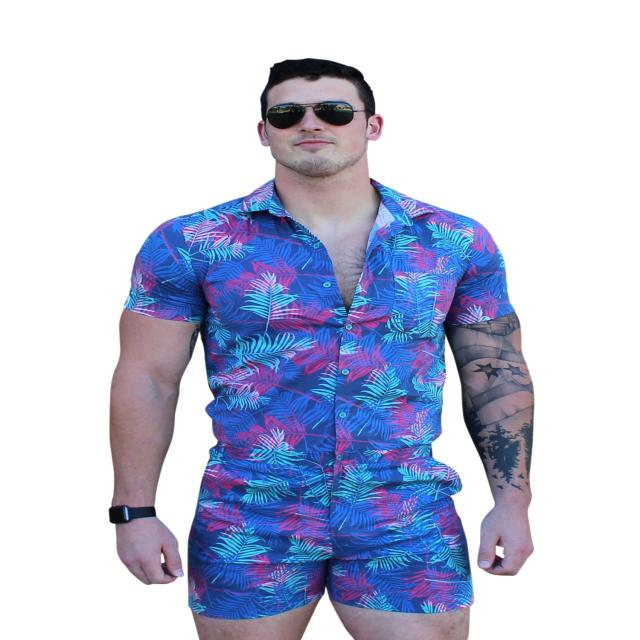human: (77, 11, 562, 640)
